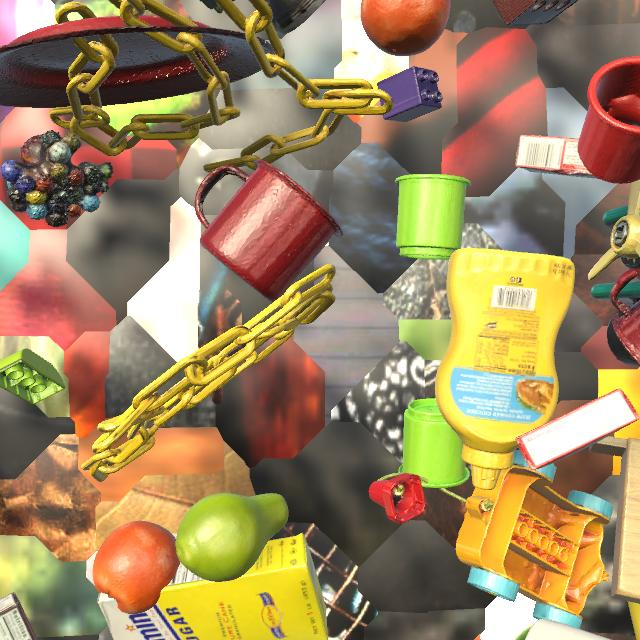ycb_004_sugar_box: (97, 533, 328, 640)
ycb_006_mustard_bottle: (435, 248, 575, 490)
ycb_008_pudding_box: (0, 592, 38, 640)
ycb_009_gelatin_box: (515, 388, 640, 470), (515, 135, 599, 179)
ycb_016_pear: (176, 493, 289, 582)
ycb_017_orange: (93, 521, 180, 614), (360, 0, 451, 56)
